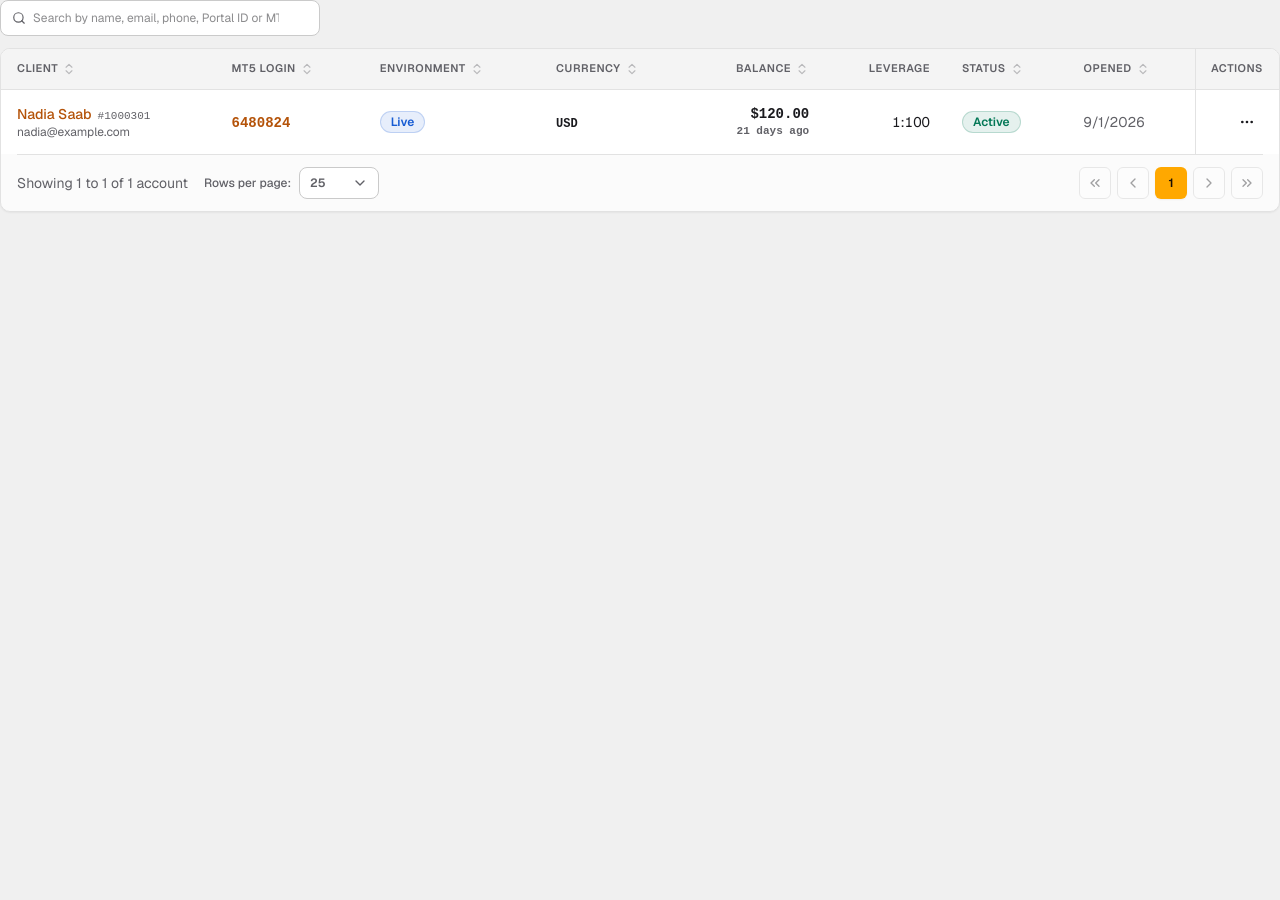
Test: Referred accounts › offers the owner's profile and moving money on a live, active account
The width and height of the screenshot is (1280, 900).
What coordinates should you click on to do the following:
click the button named "6480824"
I would click on:
 (1247, 122)
Its box is [1231,106,1263,138].
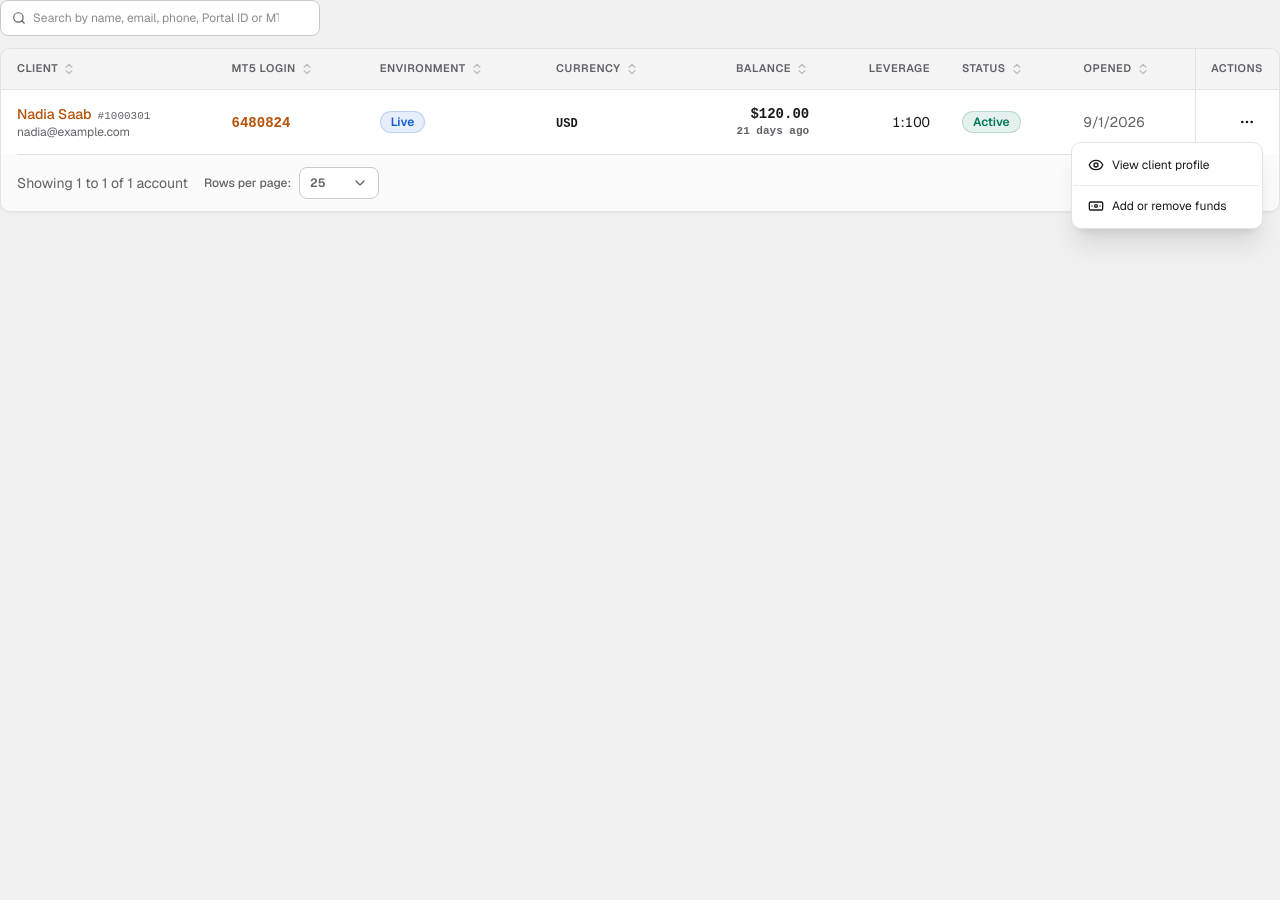
What coordinates should you click on to do the following:
click the menu item "Add or remove funds"
I would click on:
 (1157, 206)
Its box is [1088,198,1226,214].
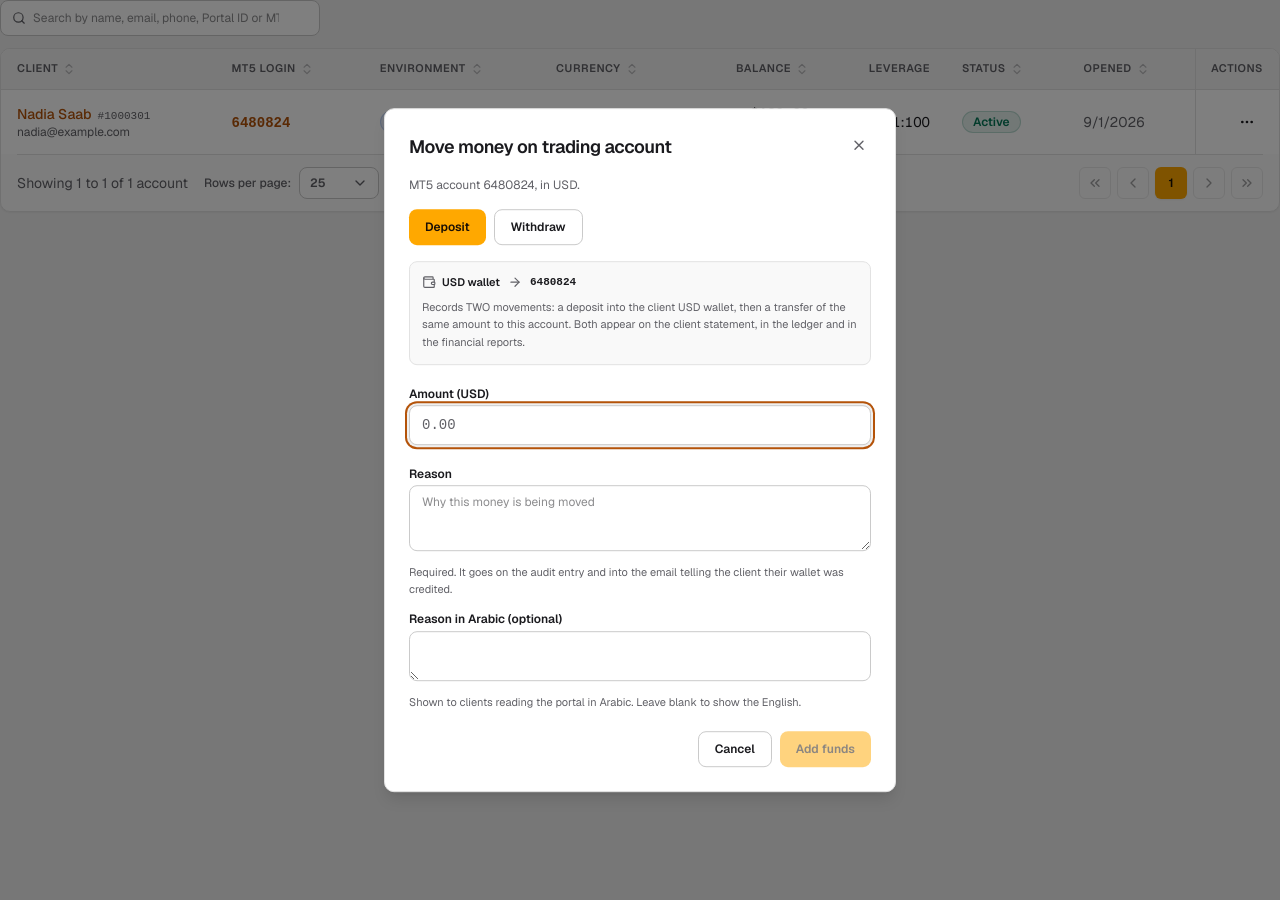
Now the dialog is shown, box [384,108,896,792]
